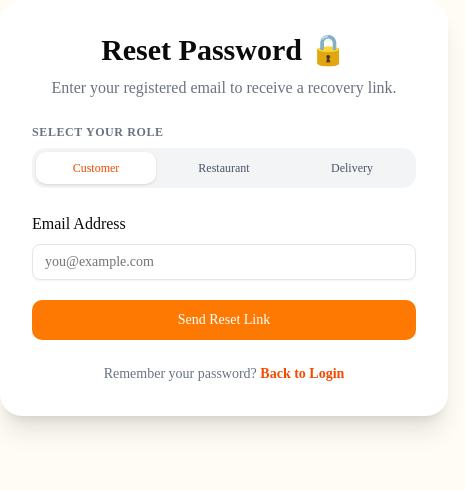
Password Recovery Forms › ForgotPasswordForm › displays error on invalid email address
Type "not-an-email" into the field labelled "Email Address".
click(224, 262); type("not-an-email")  # box [32,244,416,280]
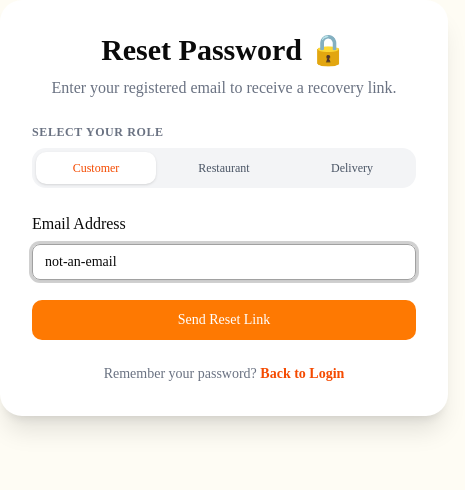
Click the button "Send Reset Link".
click(224, 320)  # box [32,300,416,340]
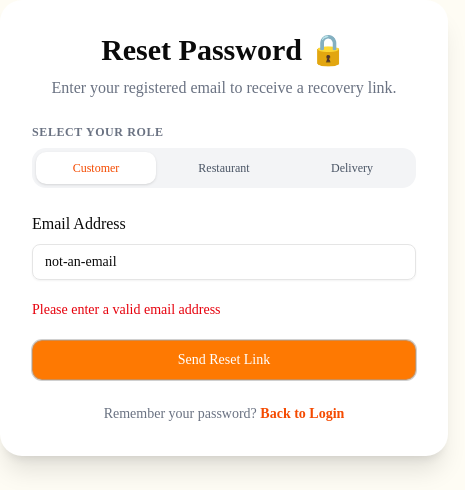
expect the message reads "Please enter a valid email address": met, box [32,302,220,317]
